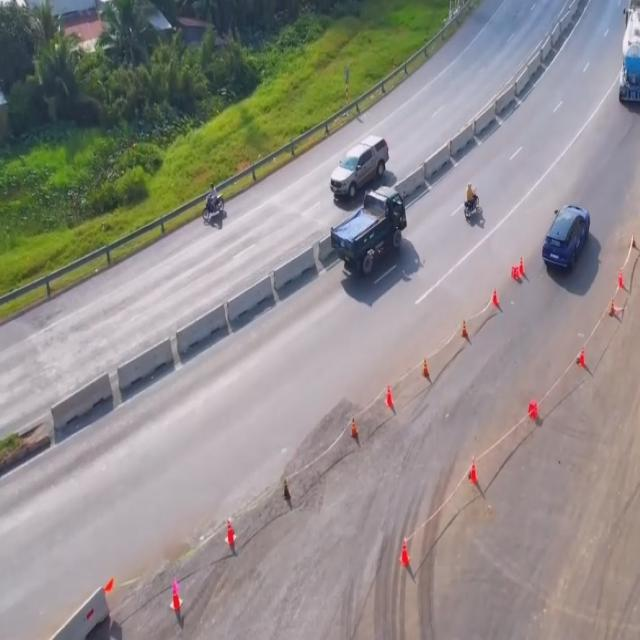car: (540, 203, 592, 276), (332, 139, 390, 203)
motorbike: (204, 183, 224, 222), (465, 182, 481, 221)
truck: (334, 185, 408, 278), (621, 1, 640, 112)
